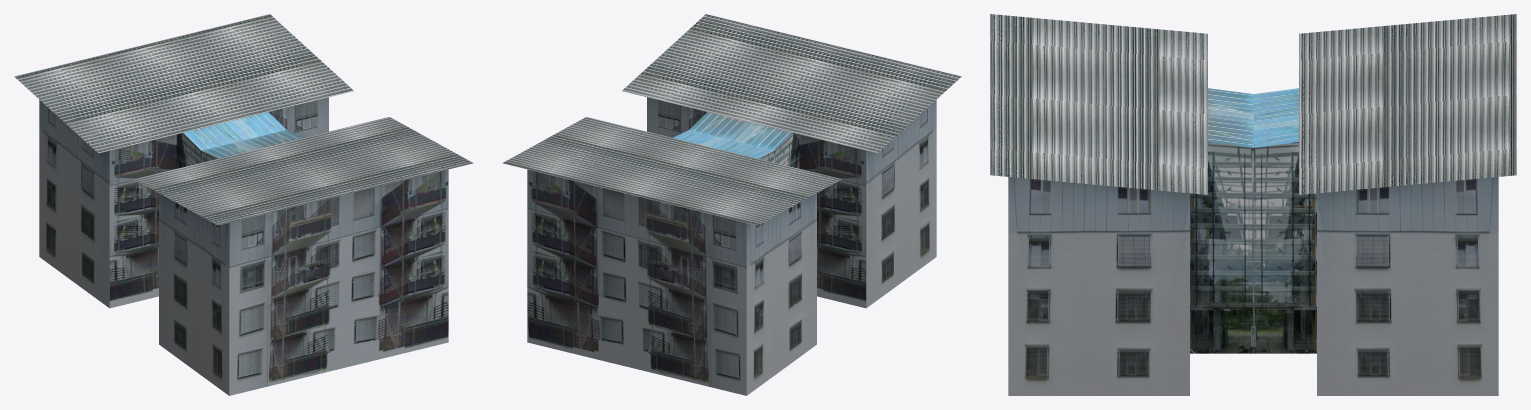
File: KoPf_Erich_Bloch_Weg_lod3.dae
3 views of the same model, side by side, from view 1: azimuth 30°, elevation 25°; view 2: azimuth 150°, elevation 25°; view 3: azimuth 270°, elevation 25° (orthographic). The views are drawn at different scales.
Parts seen in each view (by area): view 1: SketchUp (×10); view 2: SketchUp (×10); view 3: SketchUp (×7).
Boxes of the visible parts, <box> form: SketchUp (×10): <box>14,14,473,395</box>; SketchUp (×10): <box>502,14,961,395</box>; SketchUp (×7): <box>990,14,1516,395</box>.
Size of the model in its own units: 827 by 1141 by 555.
